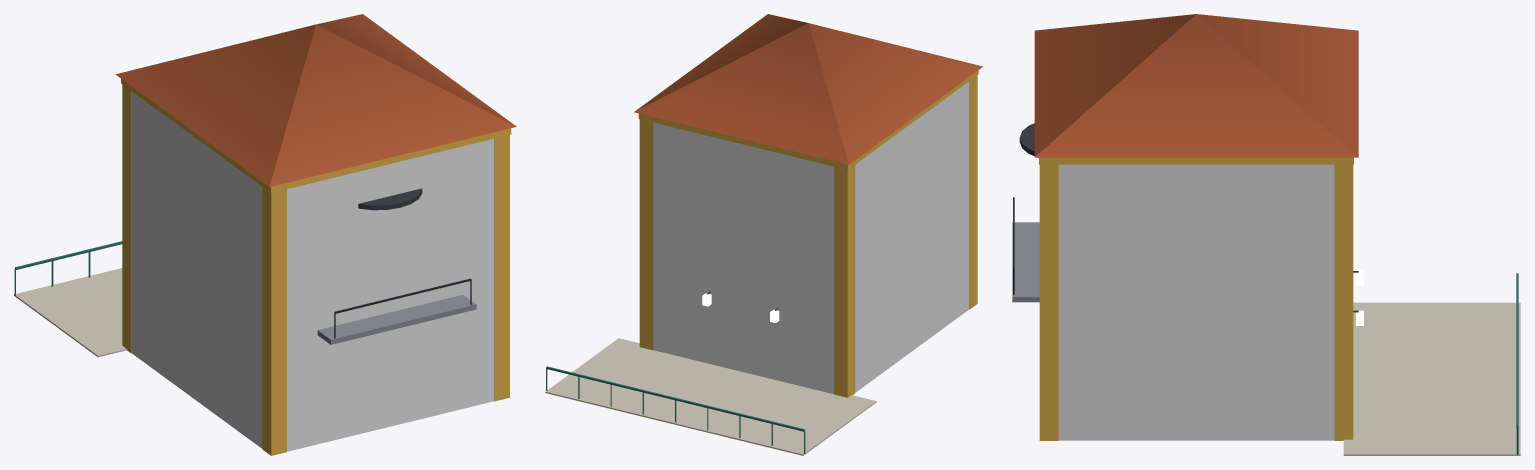
Rendered from estacion_teleferico_morro.glb.
The picture shows the model from 3 angles, left to right: view 1: azimuth 30°, elevation 25°; view 2: azimuth 150°, elevation 25°; view 3: azimuth 270°, elevation 25°; orthographic projection. The views are drawn at different scales.
Parts seen in each view (by area): view 1: COL_0, estacion_teleferico_morro_Malla; view 2: COL_0, estacion_teleferico_morro_Malla; view 3: estacion_teleferico_morro_Malla, COL_0.
Part boxes in pixels (x1=…): COL_0: x1=131, y1=91, x2=494, y2=451; estacion_teleferico_morro_Malla: x1=14, y1=14, x2=516, y2=455; COL_0: x1=653, y1=81, x2=969, y2=393; estacion_teleferico_morro_Malla: x1=545, y1=14, x2=982, y2=455; estacion_teleferico_morro_Malla: x1=1012, y1=14, x2=1520, y2=455; COL_0: x1=1058, y1=164, x2=1334, y2=440.
Bounding box in the file's own units: 12.26 × 13.71 × 17.25.
